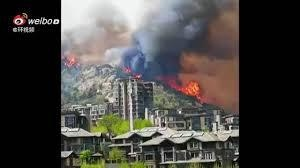fire: (170, 78, 202, 98)
